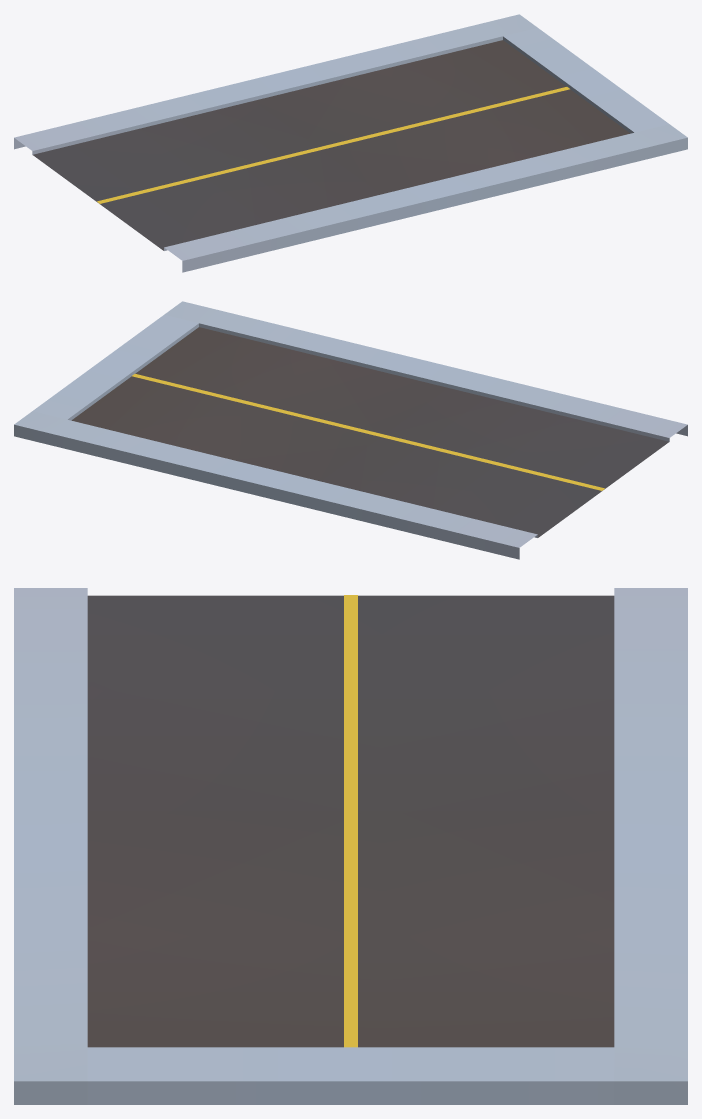
File: road6 1.fbx
3 views of the same model, one above another, from view 1: azimuth 30°, elevation 25°; view 2: azimuth 150°, elevation 25°; view 3: azimuth 270°, elevation 25° (orthographic). The views are drawn at different scales.
Visible parts, largest first — view 1: Roads.6; view 2: Roads.6; view 3: Roads.6.
Boxes of the visible parts, x1=… form: Roads.6: x1=14, y1=14, x2=687, y2=272; Roads.6: x1=14, y1=301, x2=687, y2=559; Roads.6: x1=14, y1=588, x2=687, y2=1104.
Size of the model in its own units: 843 by 18.71 by 487.
